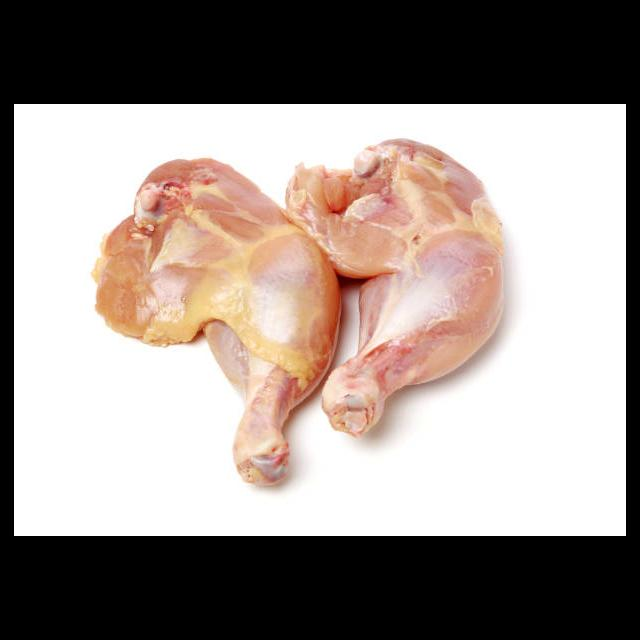chicken: (92, 135, 506, 489)
